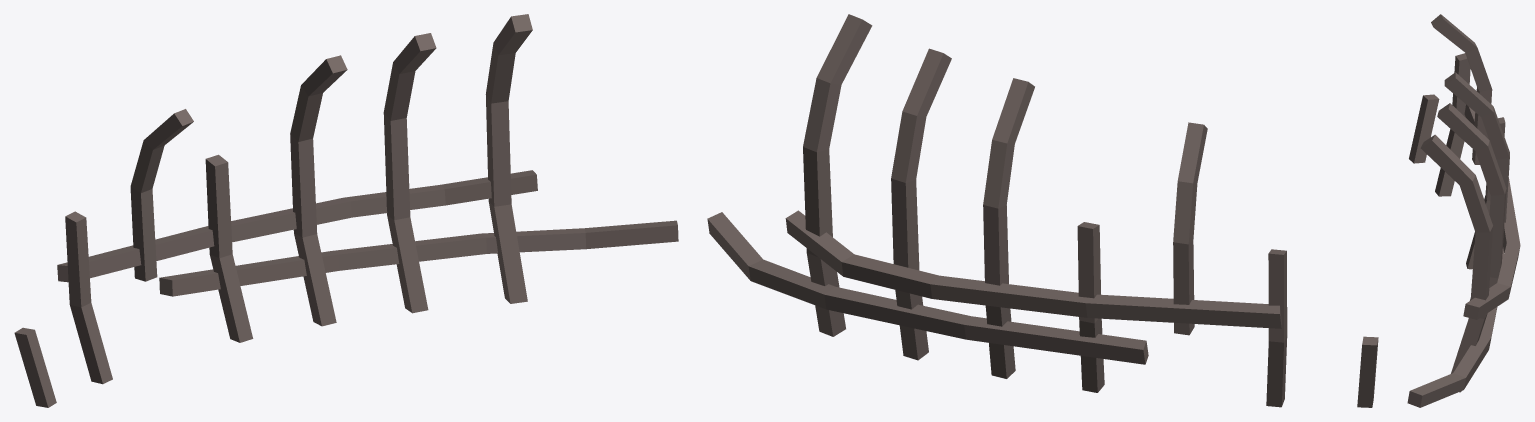
The model's file is Ship_017.glb.
3 renders of one model, left to right at view 1: azimuth 30°, elevation 25°; view 2: azimuth 150°, elevation 25°; view 3: azimuth 270°, elevation 25°, orthographic. The views are drawn at different scales.
Visible parts, largest first — view 1: Ship_017; view 2: Ship_017; view 3: Ship_017.
Part boxes in pixels (<box>): Ship_017: <box>14,14,678,407</box>; Ship_017: <box>707,14,1378,407</box>; Ship_017: <box>1407,14,1520,407</box>.
Size of the model in its own units: 8.59 by 3.73 by 1.54.
Materials: 1 (1 with a texture image).
